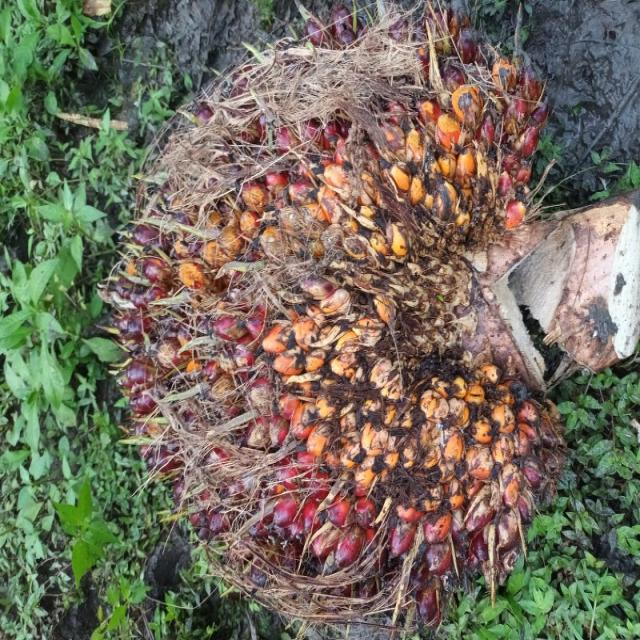fraksi 3: (1, 89, 464, 640)
